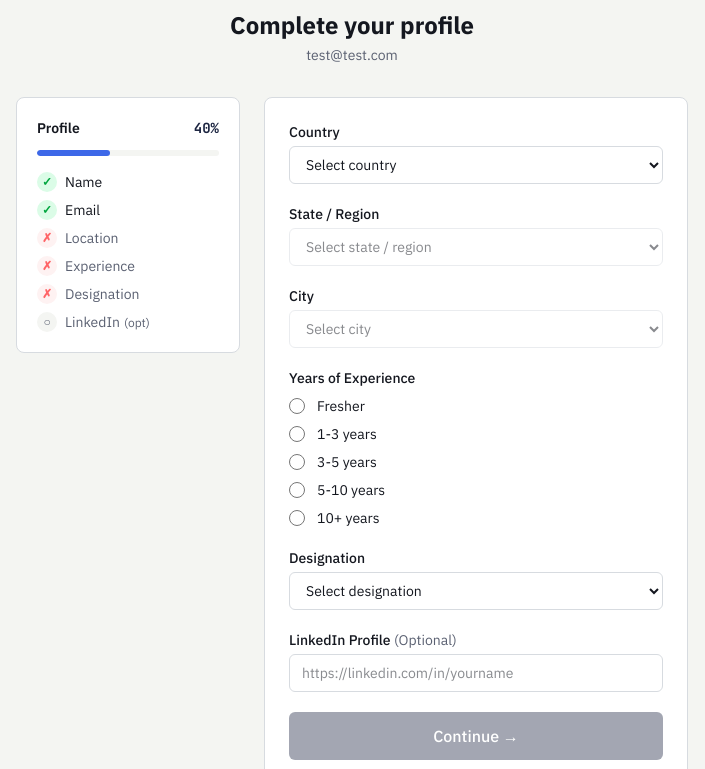
it: CompleteProfilePage › checklist shows ✗ for designation initially and ✓ after selecting
Expected: the text with test id "check-designation" reads "✗", [42,286,52,301]
Select "Data Scientist" in the dropdown named "Designation" at {"x": 476, "y": 591}, box [289,572,663,610]
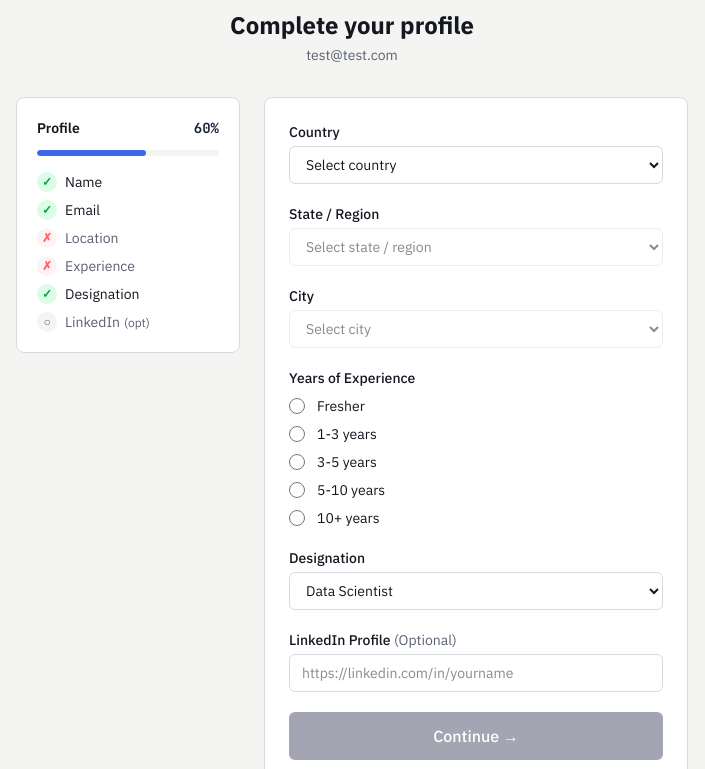
Expected: the text with test id "check-designation" reads "✓", [42,286,52,301]
